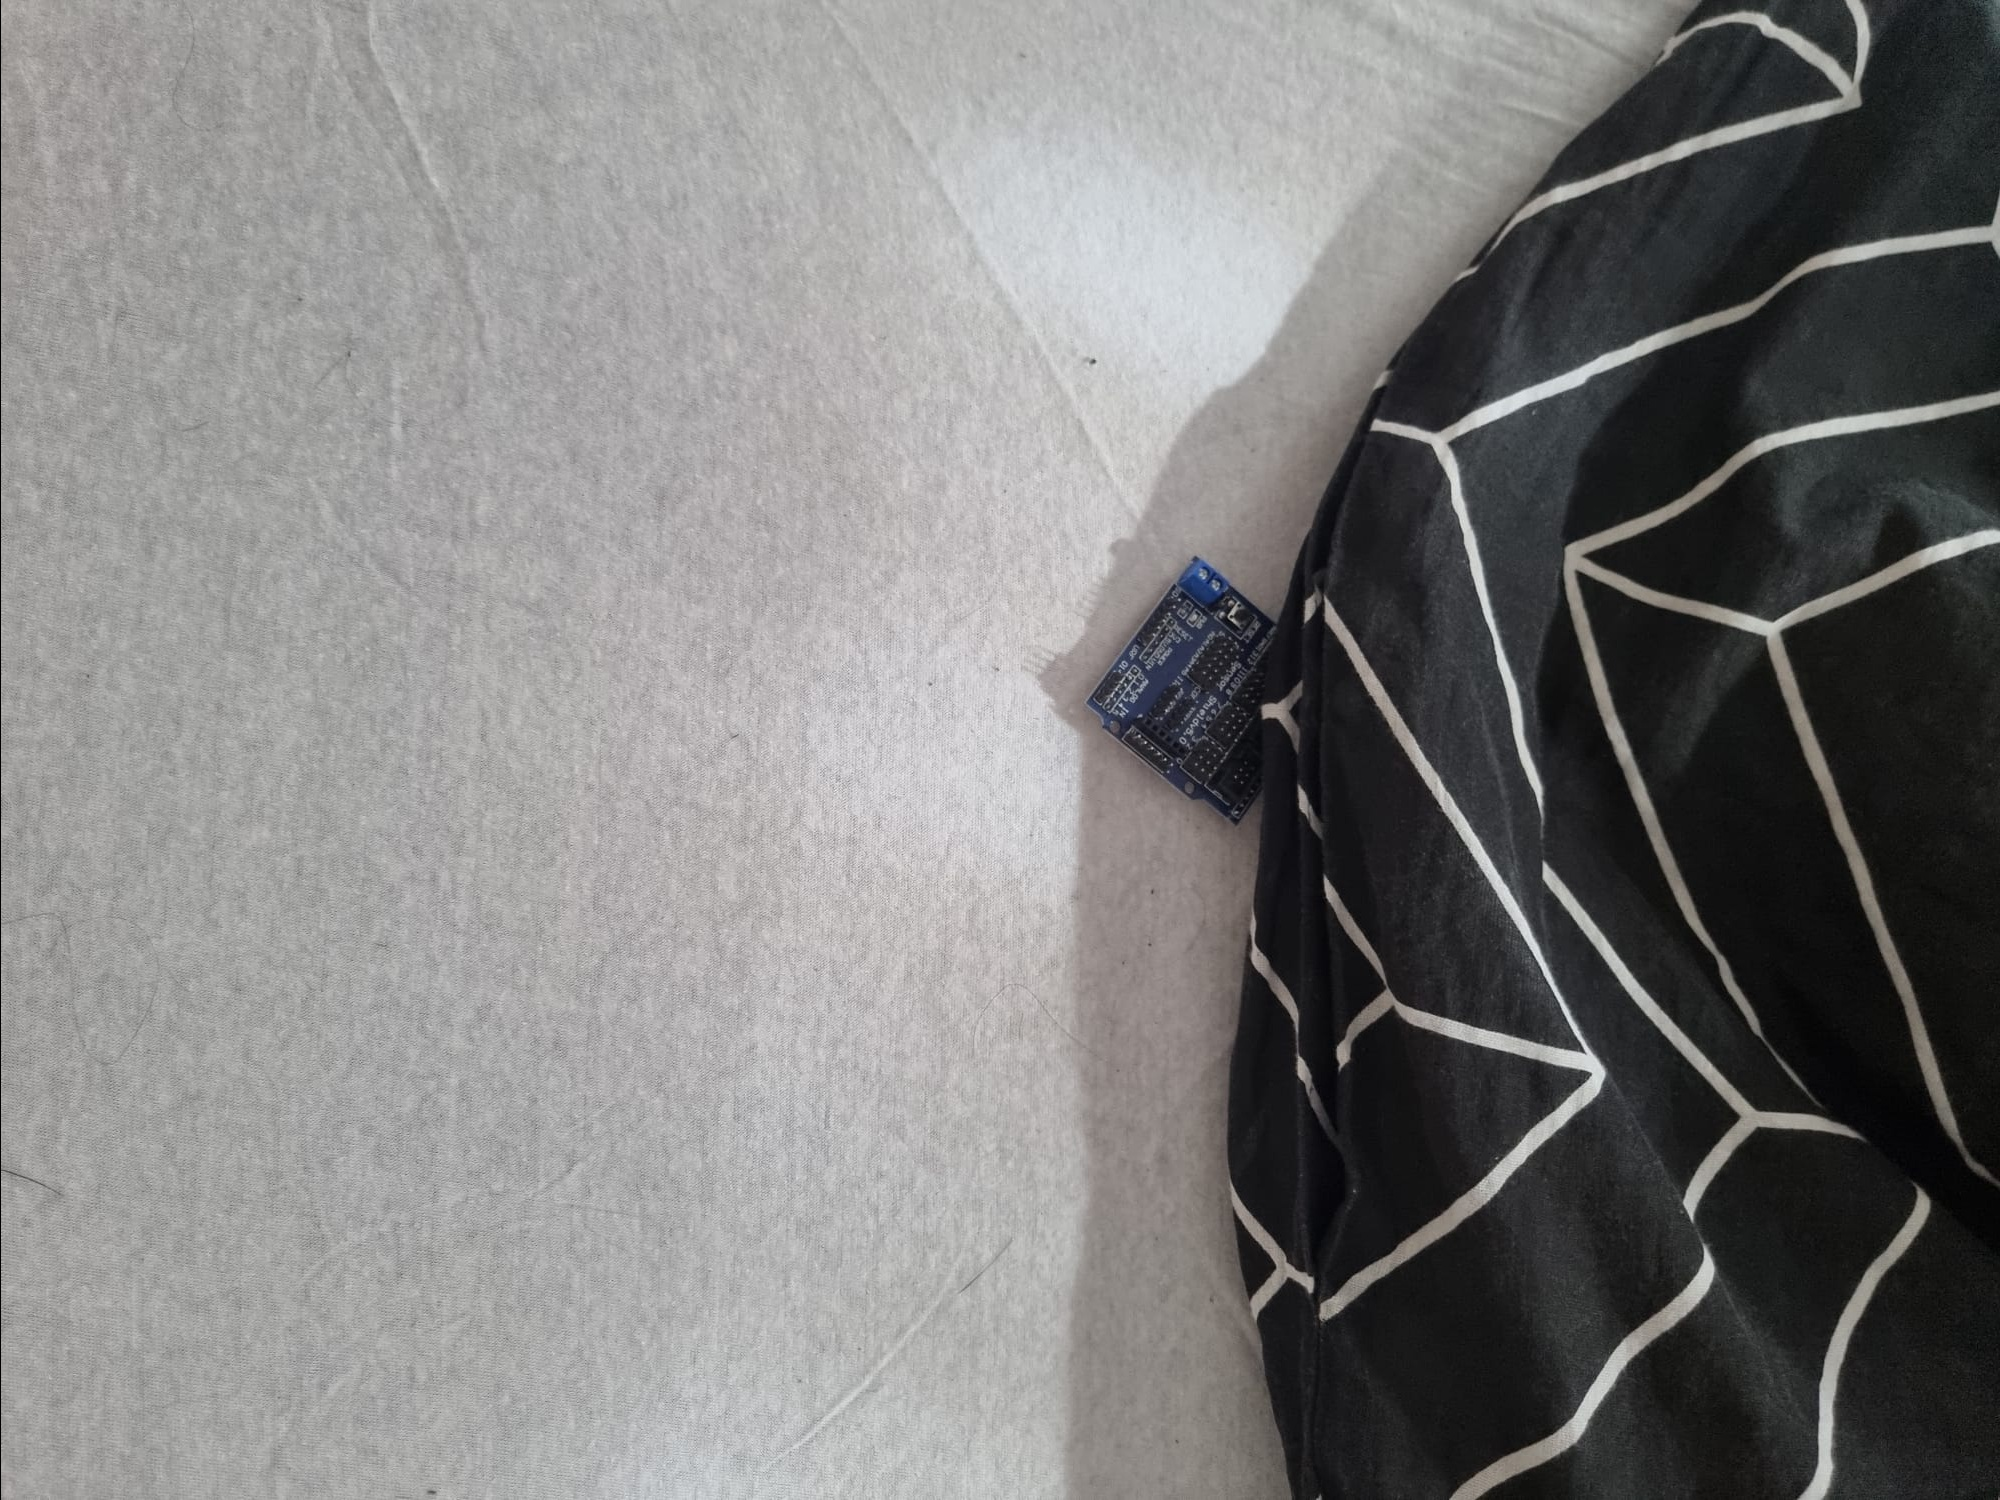5V EXPANSION: (1065, 555, 1318, 830)
